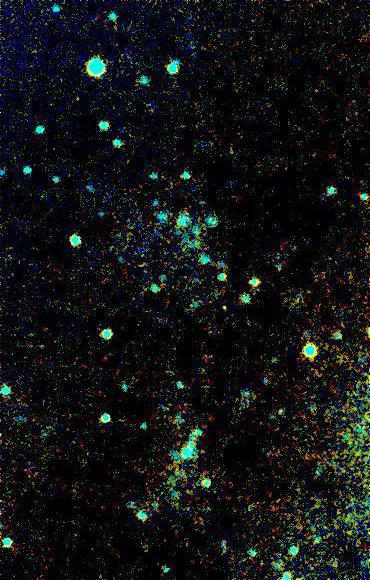star: (211, 293, 241, 323)
